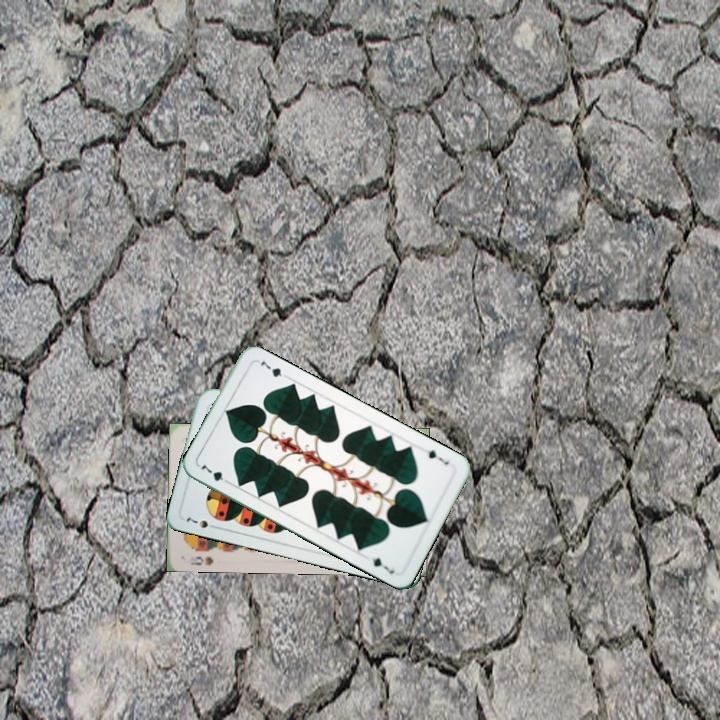G7: (197, 461, 233, 487), (424, 446, 452, 468)
S7: (182, 513, 221, 532)
S8: (181, 552, 216, 568)
